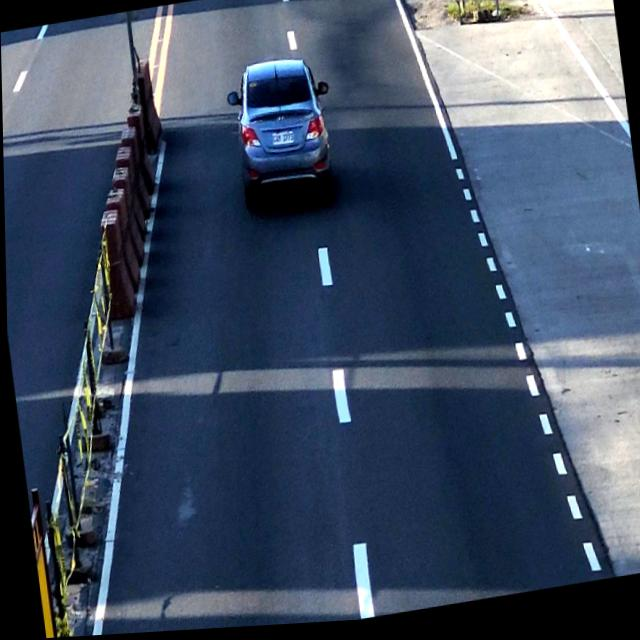Car: (226, 57, 335, 221)
License-Plate: (271, 134, 294, 152)
